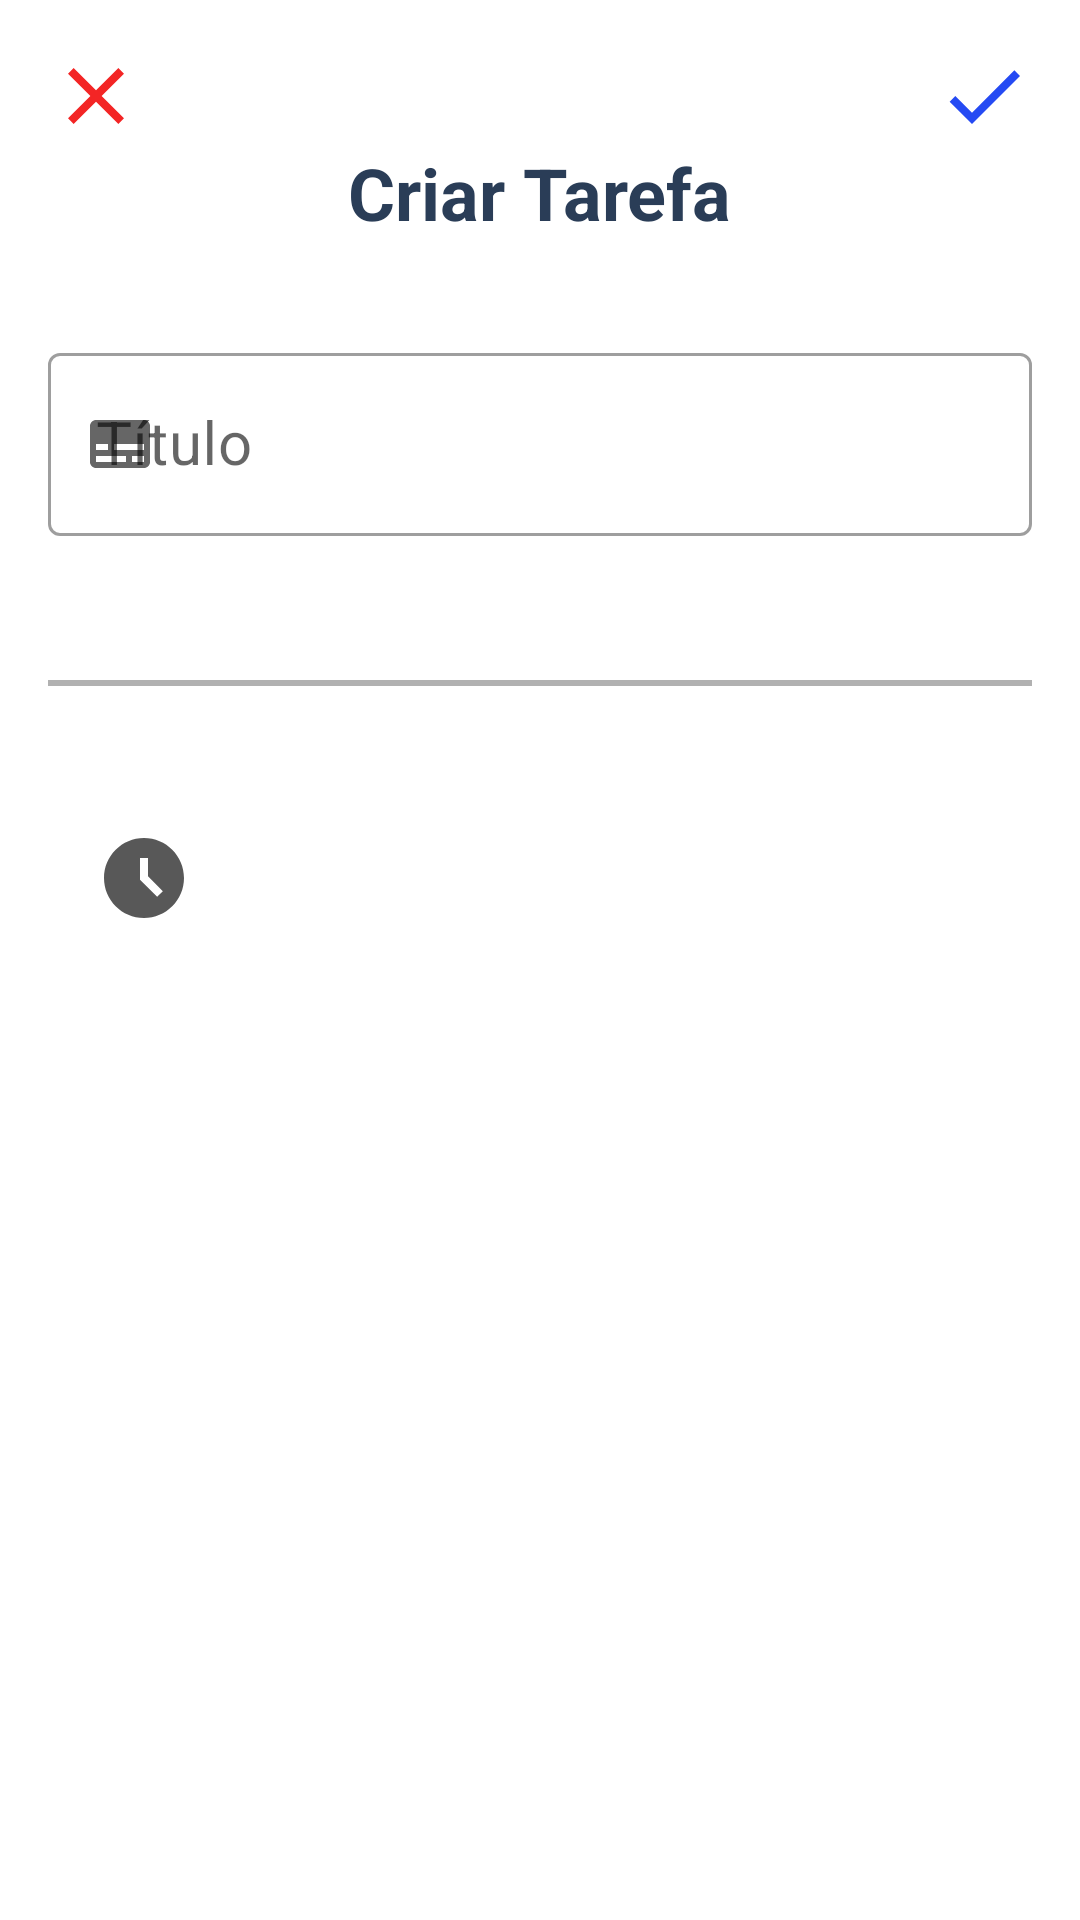

Named icons in this screenshot (1080w x 1920h) and their centers, (x,y):
check: (984,97)
close: (96,96)
time: (144,878)
